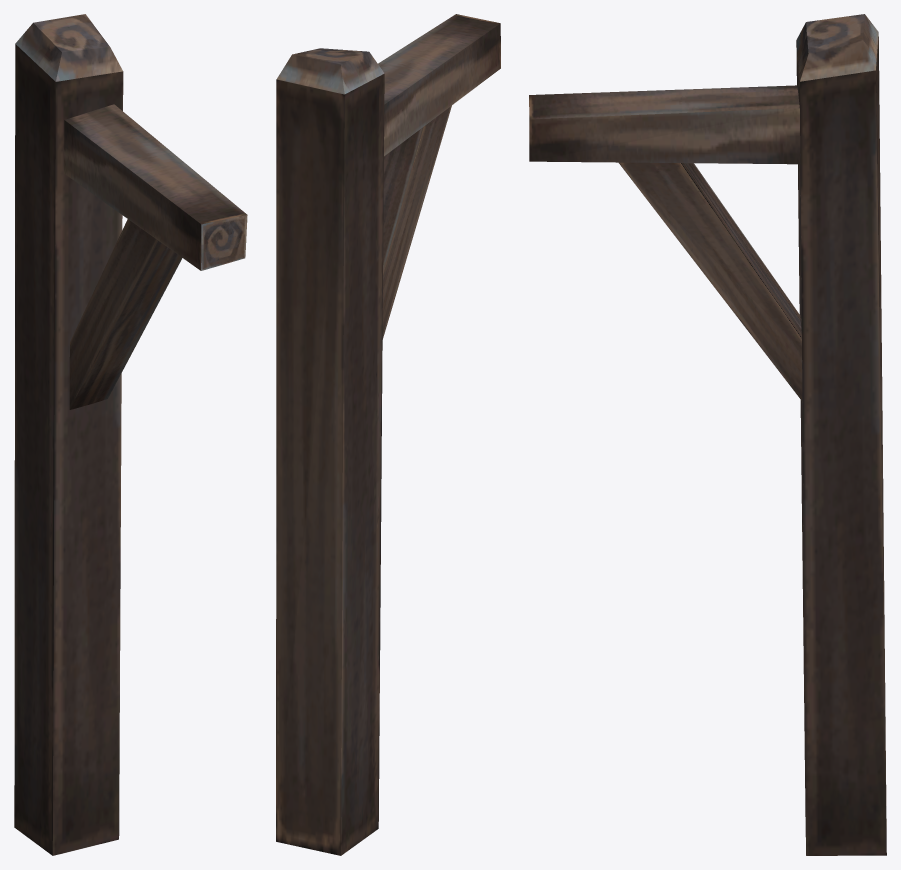
Rendered from wood_arm.fbx.
3 renders of one model, left to right at view 1: azimuth 30°, elevation 25°; view 2: azimuth 150°, elevation 25°; view 3: azimuth 270°, elevation 25°, orthographic. The views are drawn at different scales.
Visible parts, largest first — view 1: obj0.059; view 2: obj0.059; view 3: obj0.059.
Boxes of the visible parts, x1,y1,x2,y2 form: obj0.059: (14, 14, 247, 855); obj0.059: (276, 14, 500, 855); obj0.059: (529, 14, 886, 855).
Size of the model in its own units: 0.3881 by 4.15 by 1.65.
